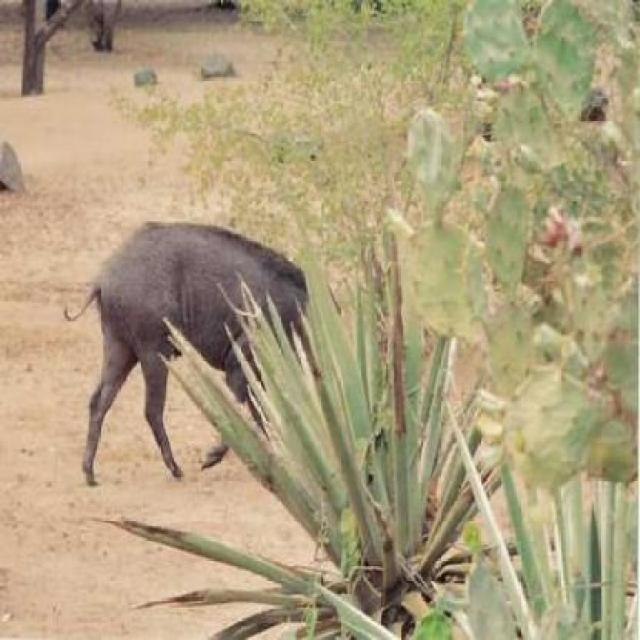pig: (80, 191, 355, 487)
